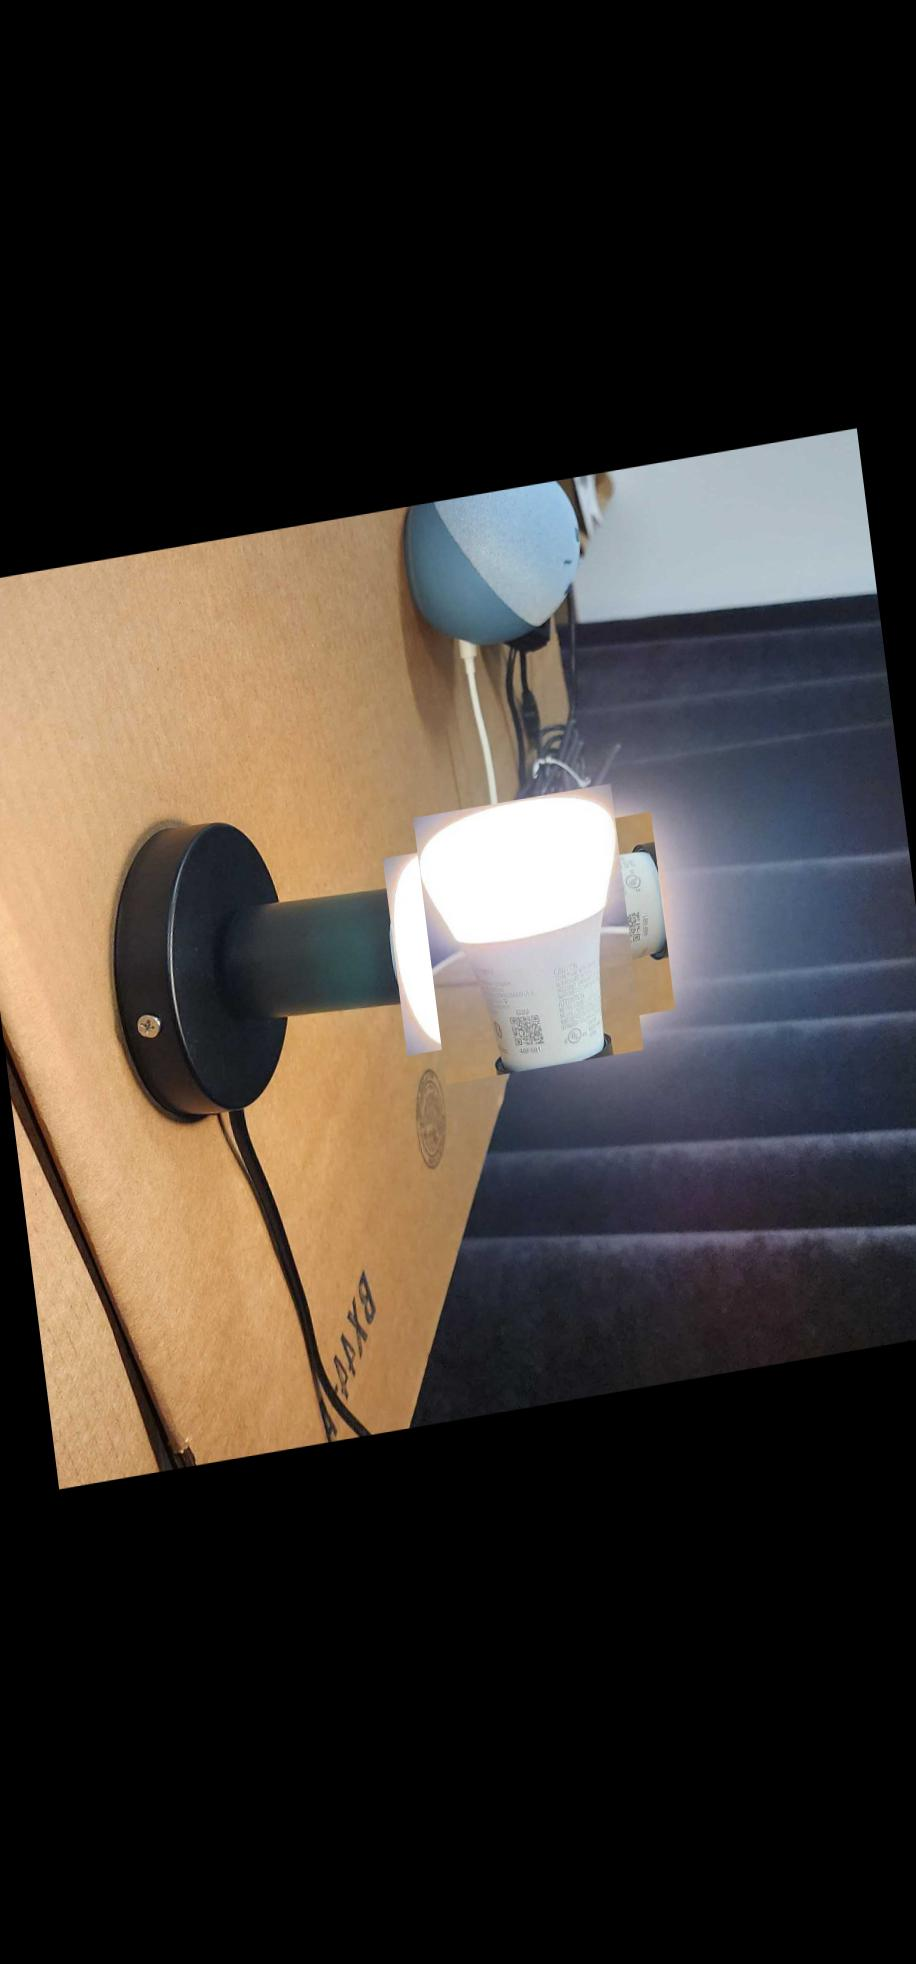TubeLight: (398, 803, 659, 1075)
